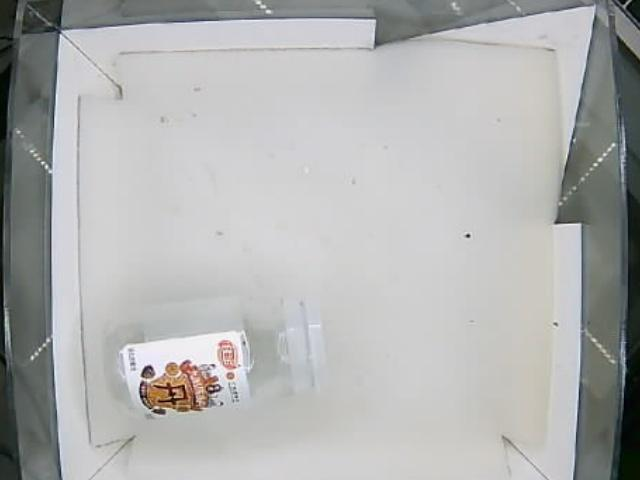Bottle: (102, 294, 329, 423)
